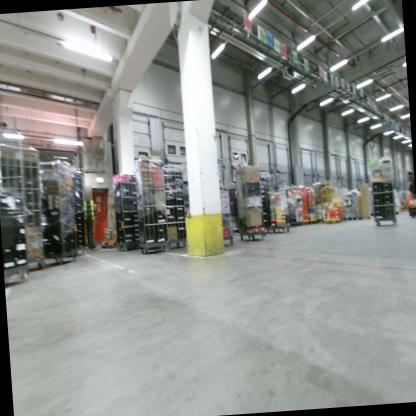pallet_truck: (403, 162, 416, 218)
